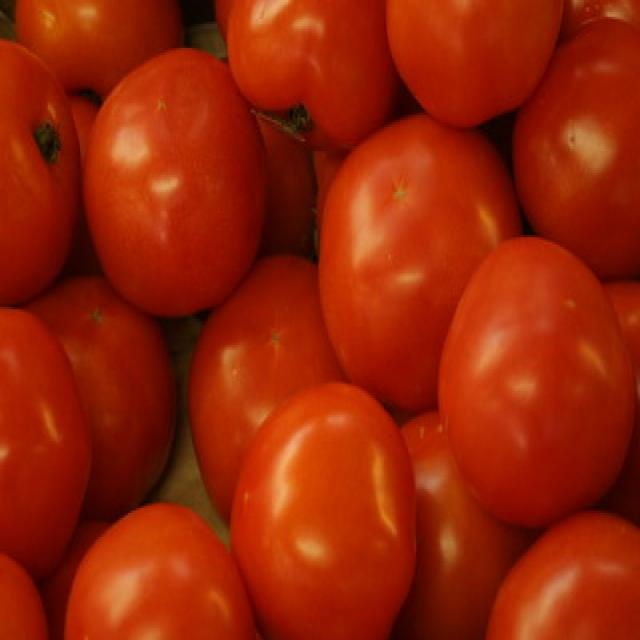Tomato: (315, 112, 522, 420), (441, 231, 638, 530), (80, 46, 268, 324), (227, 378, 419, 639), (62, 497, 264, 640), (0, 300, 96, 590)
